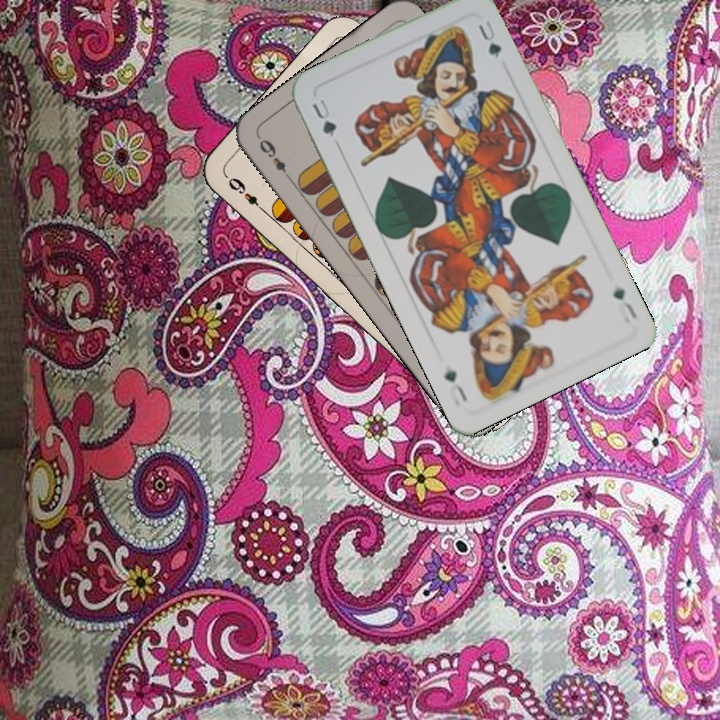E9: (222, 172, 270, 217), (254, 135, 295, 184)
GU: (307, 94, 339, 140), (609, 284, 640, 322)
